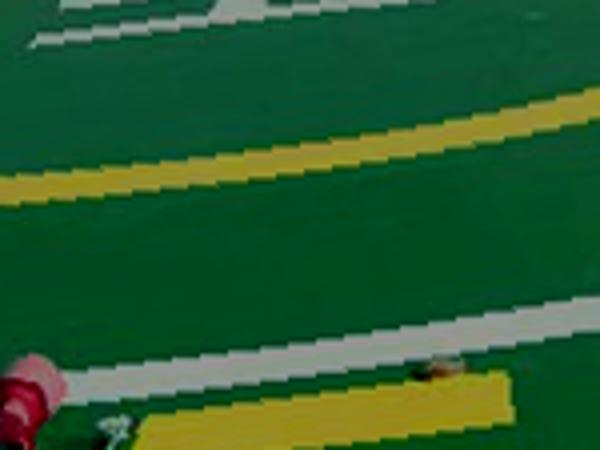Apron: (1, 83, 597, 211)
